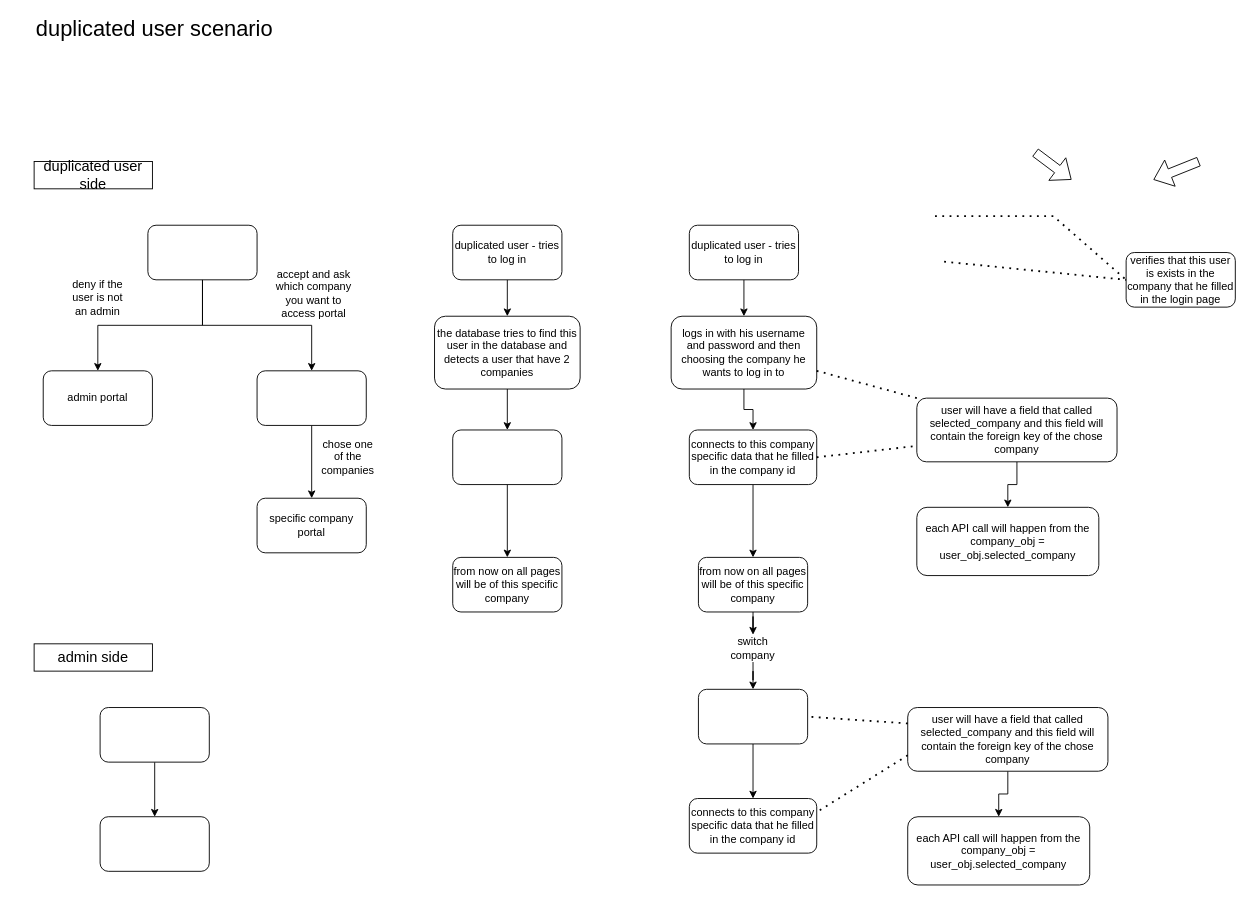
Some shapes in this 1251 by 901 pixel diagram are drawn without their labels. The shapes that lost their labels are listed below. From the top down, each one's box as (x1, y1, x2, y2) in pixels, then its label:
(147, 224, 257, 280): duplicated user- exists in two different companies in the same time
(256, 370, 366, 425): user portal
(452, 429, 562, 485): user have to decide to which company he wants to login
(99, 707, 209, 762): admin creates a user that already exists in another company
(698, 688, 808, 744): choosing the company he wants to log in to
